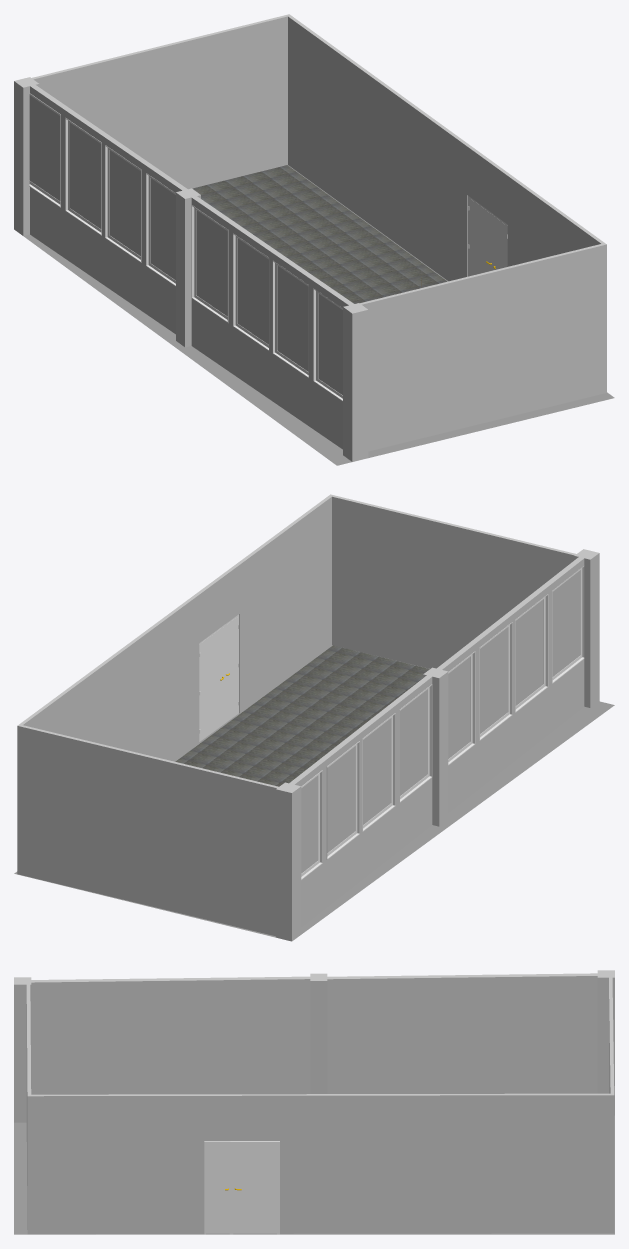
The model's file is ioclab_layout.dae.
3 views of the same model, one above another, from view 1: azimuth 30°, elevation 25°; view 2: azimuth 150°, elevation 25°; view 3: azimuth 270°, elevation 25° (orthographic). The views are drawn at different scales.
Visible parts, largest first — view 1: Node_0x55ba5a4a03e0, Node_0x55ba5a49ed60, Node_0x55ba5a49d260, Node_0x55ba5a4a4be0, Node_0x55ba5a49b760, Node_0x55ba5a4a3e60, Node_0x55ba5a496f60, Node_0x55ba5a499c60, Node_0x55ba5a4a5960, Node_0x55ba5a4a66e0, Node_0x55ba5a4a7460, Node_0x55ba5a4b2ce0 (+14 smaller); view 2: Node_0x55ba5a49cde0, Node_0x55ba5a49ed60, Node_0x55ba5a4a0860, Node_0x55ba5a4a4be0, Node_0x55ba5a49b760, Node_0x55ba5a4a3e60, Node_0x55ba5a496f60, Node_0x55ba5a4a1ee0, Node_0x55ba5a4a7460, Node_0x55ba5a4a81e0, Node_0x55ba5a4b3a60, Node_0x55ba5a4a9860 (+16 smaller); view 3: Node_0x55ba5a49e8e0, Node_0x55ba5a49b2e0, Node_0x55ba5a4a39e0, Node_0x55ba5a4a9860, Node_0x55ba5a496f60, Node_0x55ba5a4ab7e0, Node_0x55ba5a499c60, Node_0x55ba5a4a2360, Node_0x55ba5a497ce0, Node_0x55ba5a498160, Node_0x55ba5a4997e0, Node_0x55ba5a49f1e0 (+8 smaller).
Part boxes in pixels (x1,y1,x2,y2): Node_0x55ba5a4a03e0: [362, 244, 606, 451]; Node_0x55ba5a49ed60: [288, 16, 600, 281]; Node_0x55ba5a49d260: [33, 16, 287, 189]; Node_0x55ba5a4a4be0: [192, 165, 447, 303]; Node_0x55ba5a49b760: [191, 198, 348, 449]; Node_0x55ba5a4a3e60: [30, 86, 181, 334]; Node_0x55ba5a496f60: [23, 165, 614, 465]; Node_0x55ba5a499c60: [347, 310, 368, 461]; Node_0x55ba5a4a5960: [196, 210, 227, 316]; Node_0x55ba5a4a66e0: [237, 238, 268, 344]; Node_0x55ba5a4a7460: [277, 265, 308, 371]; Node_0x55ba5a4b2ce0: [29, 95, 60, 200]; Node_0x55ba5a49cde0: [17, 726, 276, 936]; Node_0x55ba5a49ed60: [23, 497, 331, 761]; Node_0x55ba5a4a0860: [332, 496, 574, 668]; Node_0x55ba5a4a4be0: [175, 645, 429, 786]; Node_0x55ba5a49b760: [442, 558, 584, 812]; Node_0x55ba5a4a3e60: [295, 677, 432, 927]; Node_0x55ba5a496f60: [14, 645, 614, 937]; Node_0x55ba5a4a1ee0: [276, 789, 296, 941]; Node_0x55ba5a4a7460: [515, 599, 543, 705]; Node_0x55ba5a4a81e0: [552, 570, 580, 676]; Node_0x55ba5a4b3a60: [327, 746, 355, 852]; Node_0x55ba5a4a9860: [199, 627, 223, 741]; Node_0x55ba5a49e8e0: [27, 1095, 614, 1234]; Node_0x55ba5a49b2e0: [31, 979, 310, 1094]; Node_0x55ba5a4a39e0: [327, 976, 597, 1093]; Node_0x55ba5a4a9860: [233, 1144, 276, 1233]; Node_0x55ba5a496f60: [14, 1115, 614, 1234]; Node_0x55ba5a4ab7e0: [206, 1144, 229, 1233]; Node_0x55ba5a499c60: [14, 984, 22, 1122]; Node_0x55ba5a4a2360: [597, 977, 606, 1093]; Node_0x55ba5a497ce0: [319, 981, 327, 1093]; Node_0x55ba5a498160: [310, 981, 318, 1093]; Node_0x55ba5a4997e0: [22, 984, 31, 1122]; Node_0x55ba5a49f1e0: [28, 1094, 613, 1096].
Bounding box in the file's own units: 608 × 310 × 1223.
Materials: 16 (1 with a texture image).
